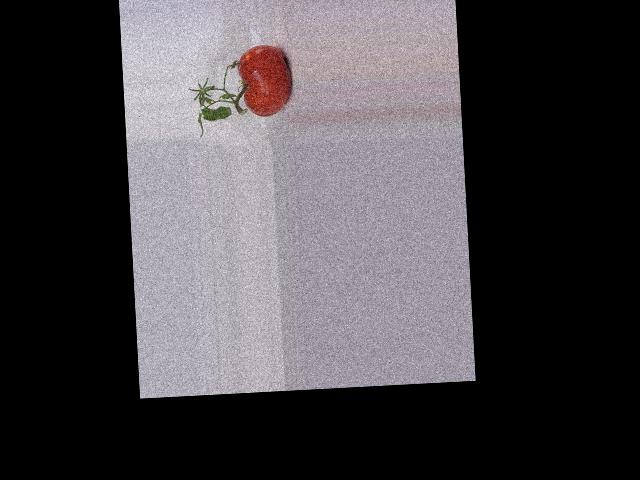tomato: (236, 43, 293, 117)
